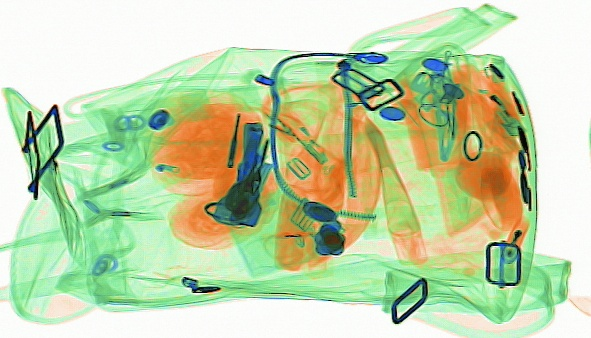lighter: (449, 62, 528, 138), (501, 212, 530, 264)
